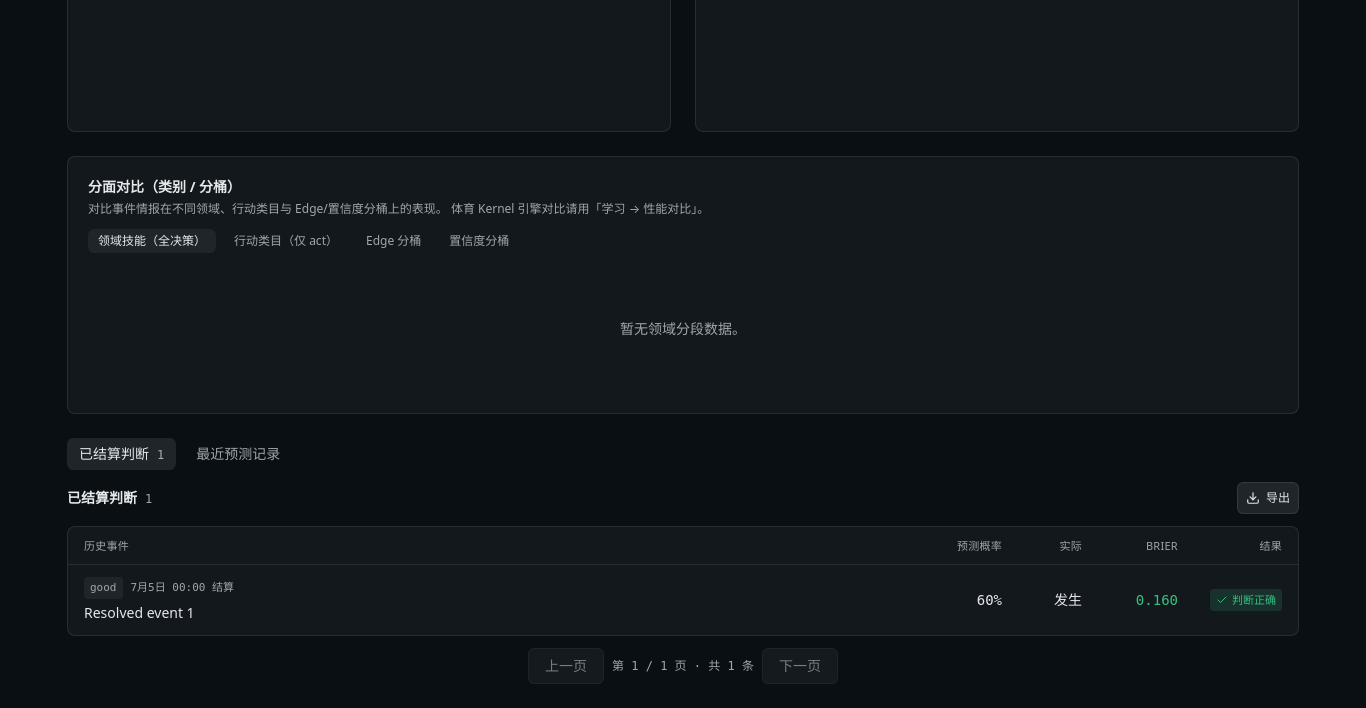
Test: HistoryPage › switches between recent predictions and resolved reviews instead of rendering both
The width and height of the screenshot is (1366, 708).
(page scrolled)
Check: the heading "已结算判断1" is shown, box [67,488,152,508]
Step 1. Click the button "最近预测记录" → point(238, 454), box [184,438,292,470]
(page scrolled)
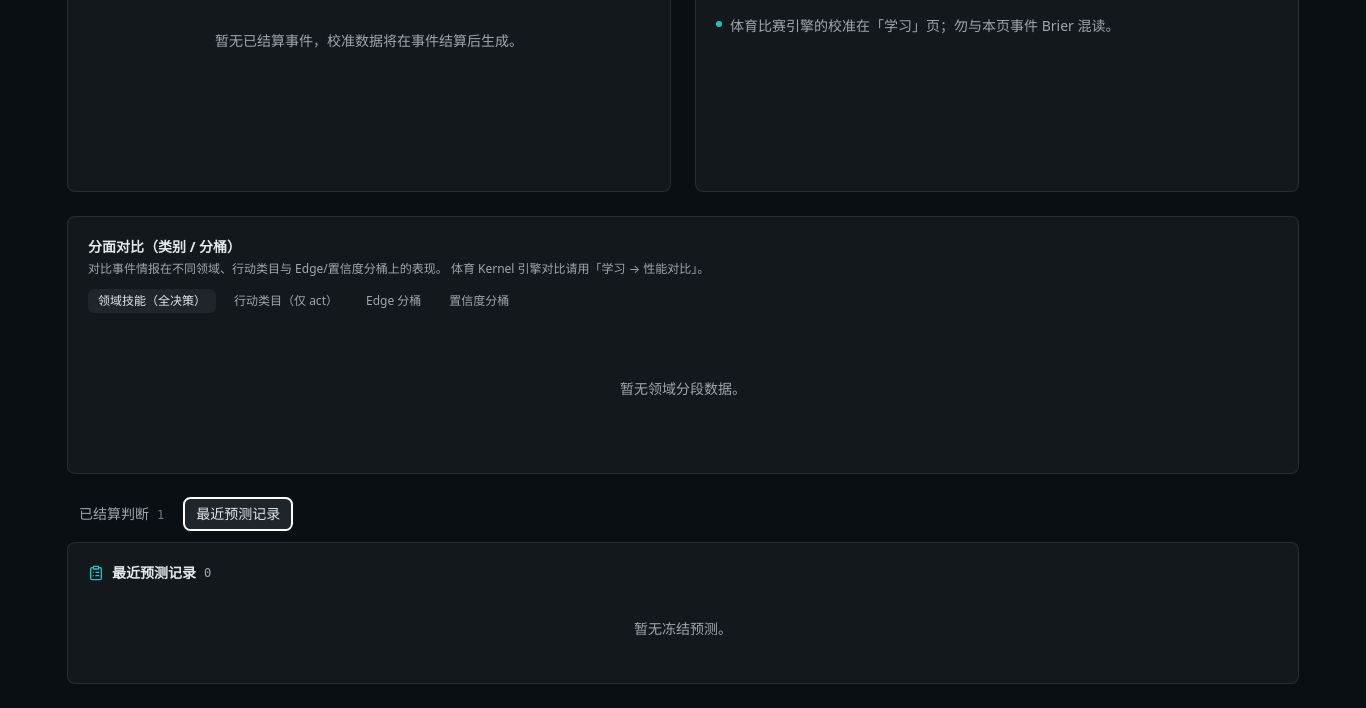
Check: the heading "最近预测记录" is shown, box [112,563,196,583]
Step 2. Click the button "已结算判断1" → point(122, 514), box [67,498,176,530]
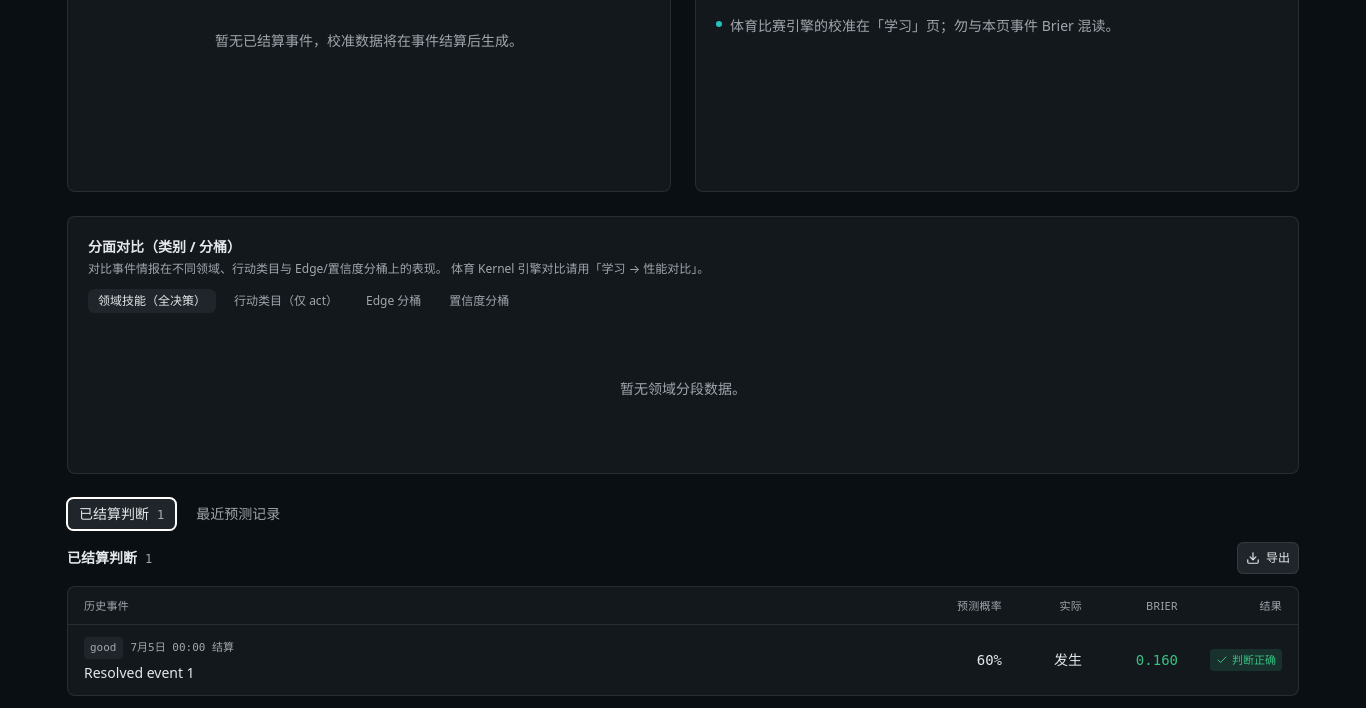
Check: the heading "已结算判断1" is shown, box [67,548,152,568]
